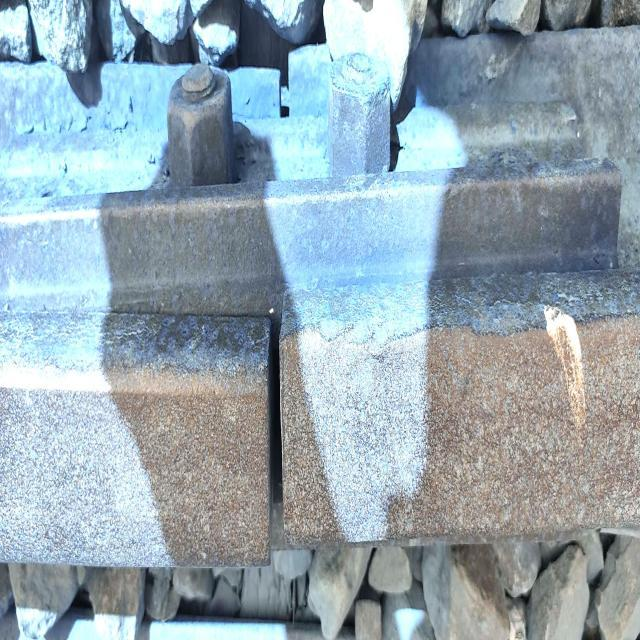Defective Joint: (0, 48, 617, 306)
